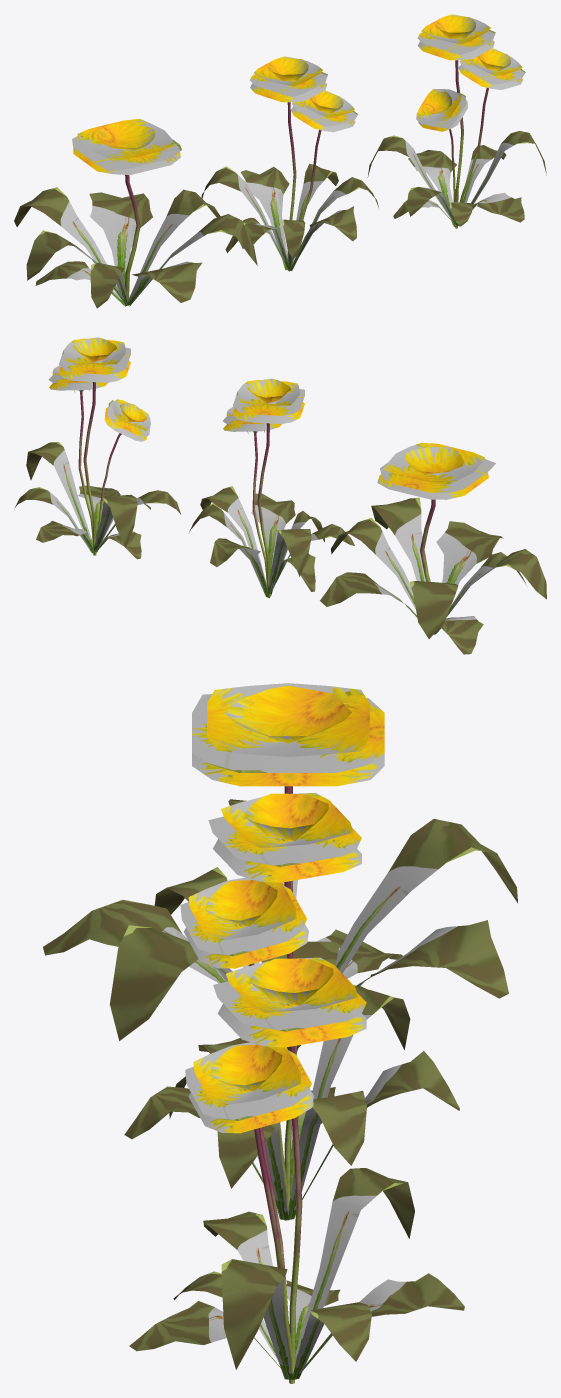
3 renders of one model, top to bottom at view 1: azimuth 30°, elevation 25°; view 2: azimuth 150°, elevation 25°; view 3: azimuth 270°, elevation 25°, orthographic. The views are drawn at different scales.
Parts seen in each view (by area): view 1: Dandelion1_0, Dandelion3_2, Dandelion2_1; view 2: Dandelion1_0, Dandelion3_2, Dandelion2_1; view 3: Dandelion3_2, Dandelion1_0, Dandelion2_1.
Part boxes in pixels (left/top/right/bottom): Dandelion1_0: left=14, top=118, right=257, bottom=308; Dandelion3_2: left=367, top=14, right=546, bottom=228; Dandelion2_1: left=201, top=56, right=378, bottom=271; Dandelion1_0: left=320, top=442, right=546, bottom=654; Dandelion3_2: left=14, top=337, right=180, bottom=559; Dandelion2_1: left=188, top=378, right=354, bottom=598; Dandelion3_2: left=129, top=957, right=464, bottom=1383; Dandelion1_0: left=43, top=683, right=517, bottom=1051; Dandelion2_1: left=124, top=793, right=459, bottom=1221.
Size of the model in its own units: 0.6313 by 0.2407 by 0.2539.
